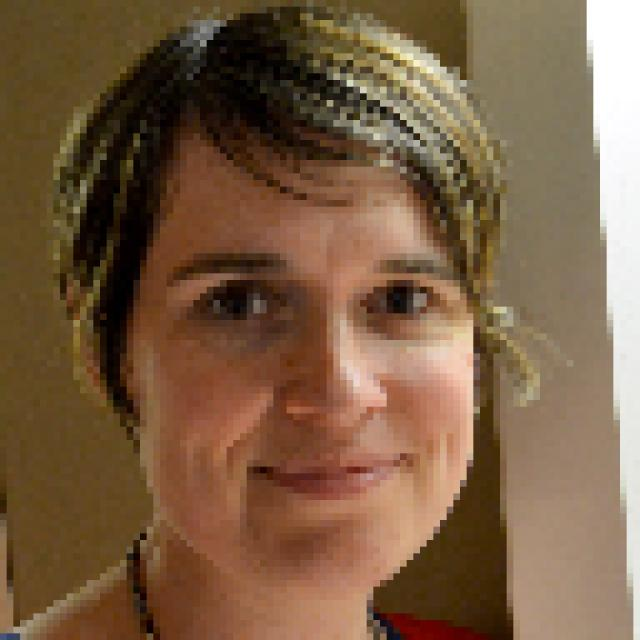happy: (51, 85, 475, 640)
